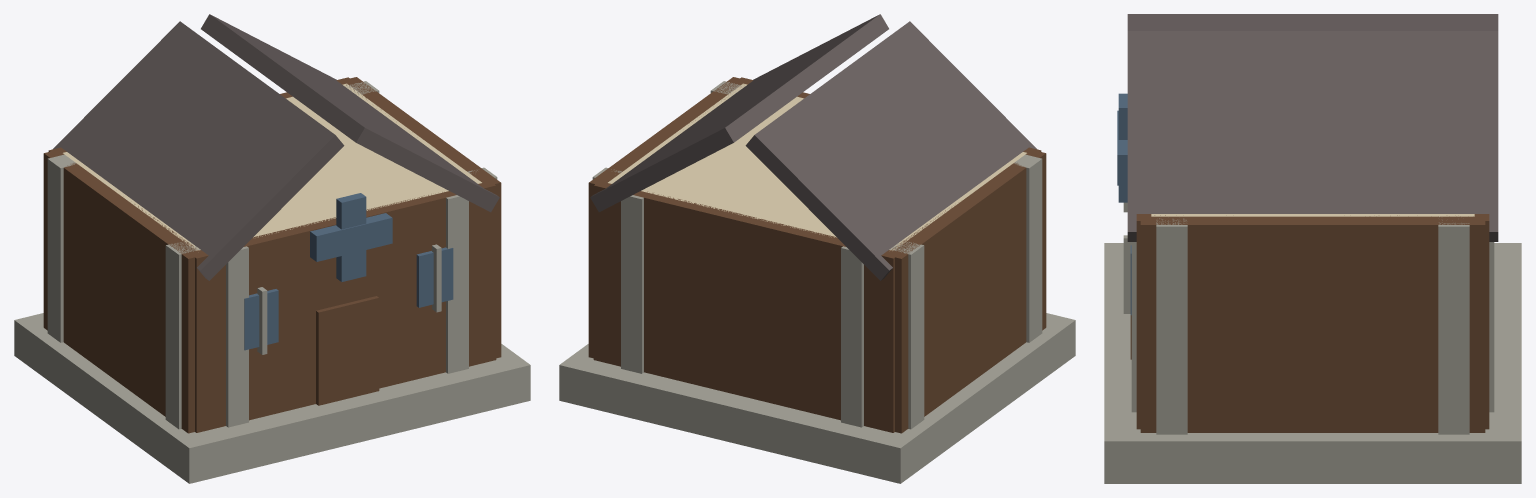
File: procedural_infirmary@3.glb
3 views of the same model, side by side, from view 1: azimuth 30°, elevation 25°; view 2: azimuth 150°, elevation 25°; view 3: azimuth 270°, elevation 25° (orthographic). The views are drawn at different scales.
Visible parts, largest first — view 1: part_19, part_11, part_0, part_2, part_20, part_1, part_14, part_12, part_13, part_3, part_4, part_5 (+6 smaller); view 2: part_8, part_19, part_0, part_2, part_20, part_1, part_10, part_9, part_3, part_4, part_5; view 3: part_20, part_5, part_0, part_7, part_6, part_19, part_11, part_8, part_10, part_13, part_1, part_21 (+2 smaller).
Part boxes in pixels (x1,y1,x2,y2): part_19: (53, 21, 344, 280); part_11: (189, 181, 496, 432); part_0: (14, 313, 530, 483); part_2: (43, 151, 203, 433); part_20: (201, 14, 499, 212); part_1: (63, 83, 481, 250); part_14: (316, 296, 379, 405); part_12: (226, 246, 248, 427); part_13: (446, 195, 468, 373); part_3: (47, 154, 76, 342); part_4: (165, 240, 199, 429); part_5: (340, 77, 501, 358); part_8: (593, 181, 900, 432); part_19: (745, 21, 1036, 280); part_0: (559, 313, 1075, 483); part_2: (886, 151, 1046, 433); part_20: (590, 14, 888, 212); part_1: (608, 83, 1026, 250); part_10: (621, 195, 643, 373); part_9: (841, 246, 863, 427); part_3: (890, 240, 924, 429); part_4: (1013, 154, 1042, 342); part_5: (588, 77, 749, 358); part_20: (1127, 31, 1498, 241); part_5: (1140, 215, 1485, 432); part_0: (1104, 243, 1521, 483); part_7: (1156, 218, 1187, 434); part_6: (1438, 216, 1469, 434); part_19: (1127, 14, 1498, 30); part_11: (1136, 214, 1154, 429); part_8: (1471, 214, 1489, 429); part_10: (1489, 242, 1494, 412); part_13: (1131, 242, 1136, 412); part_1: (1151, 214, 1474, 216); part_21: (1118, 93, 1127, 202).
Bounding box in the file's own units: 9 × 7.65 × 8.
